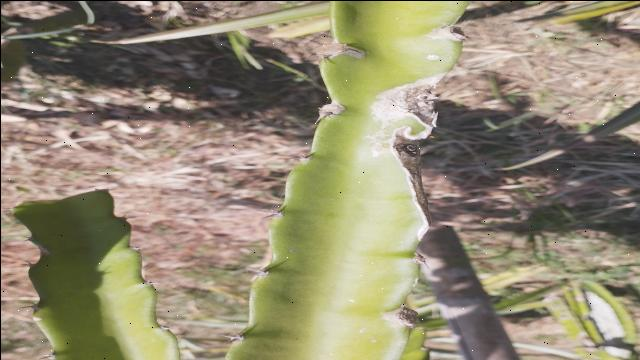stemcanker: (423, 48, 448, 66)
